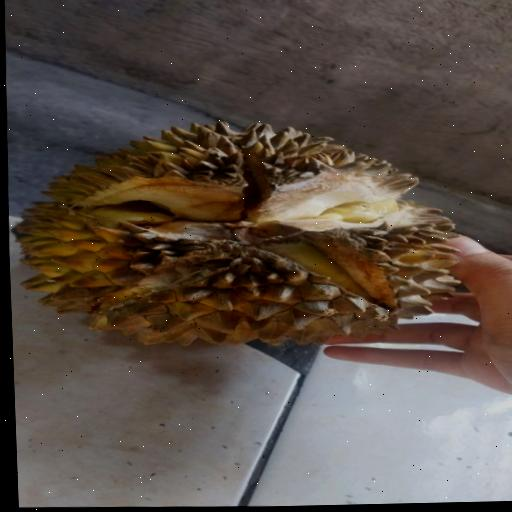rot: (4, 88, 512, 370)
